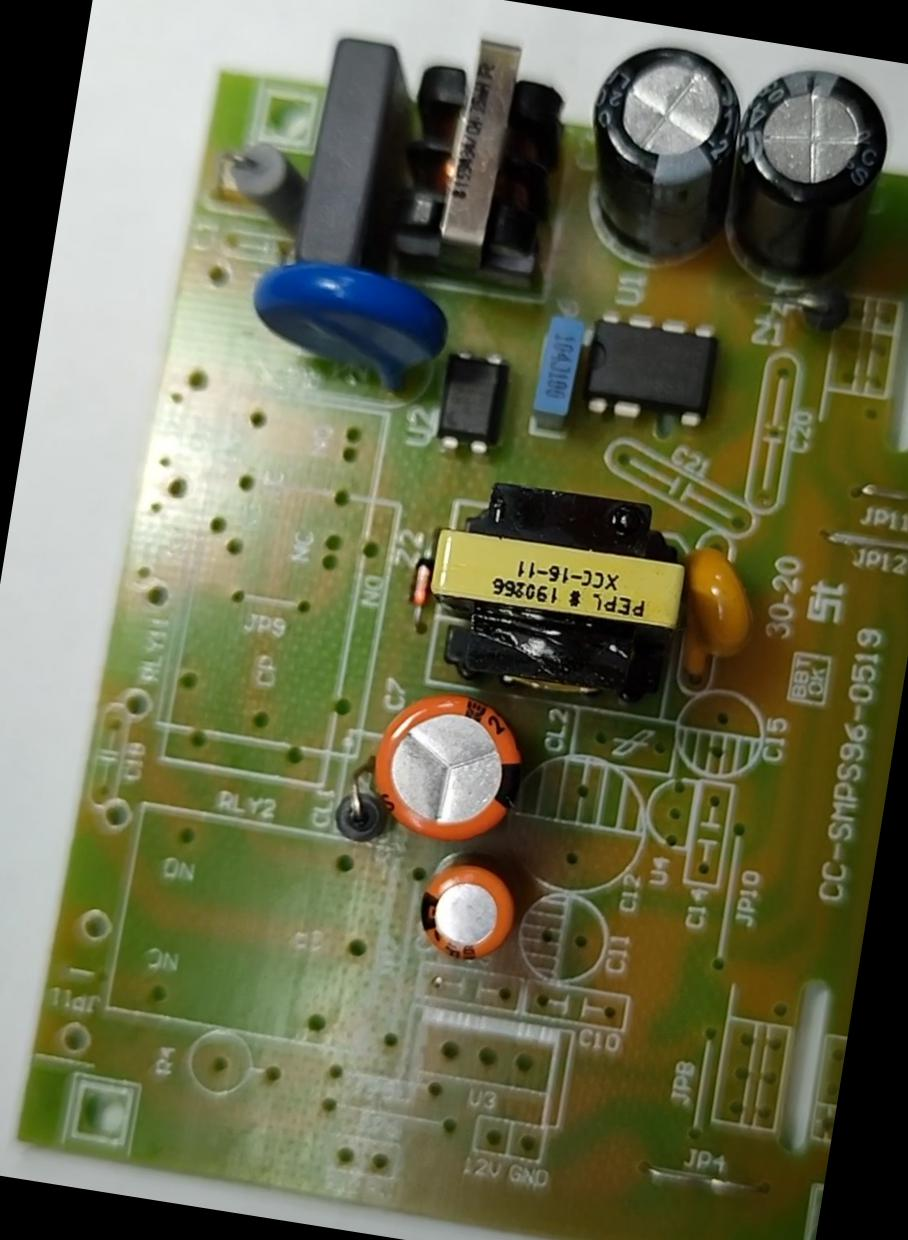Cap1: (355, 674, 543, 861)
Cap2: (400, 837, 534, 982)
Cap3: (562, 20, 766, 288)
Cap4: (704, 39, 907, 327)
MOSFET: (560, 288, 740, 440)
Mov: (224, 239, 464, 417)
Resistor: (204, 118, 324, 248)
Transformer: (397, 458, 710, 737), (358, 13, 588, 312)
